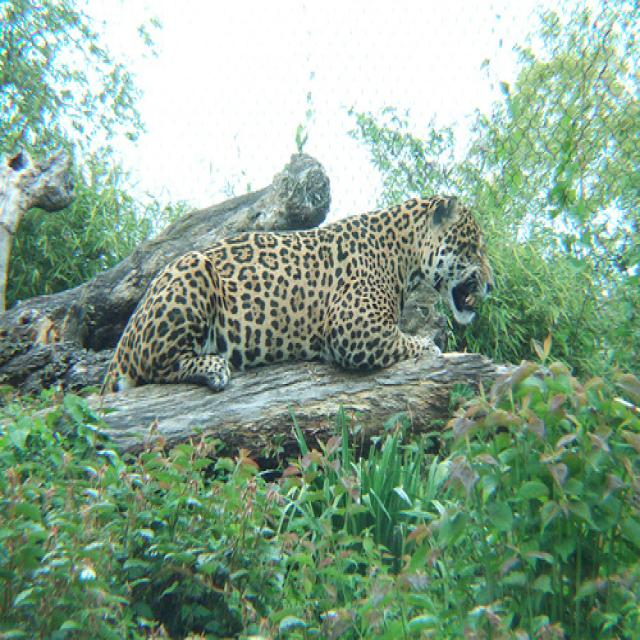Leopard: (95, 193, 494, 394)
